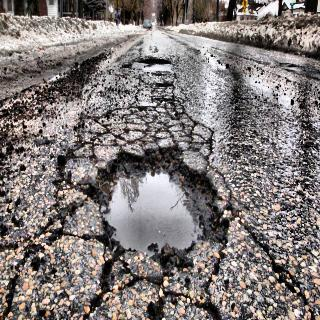alligator-crack: (87, 100, 222, 151)
pothole: (91, 140, 233, 274)
